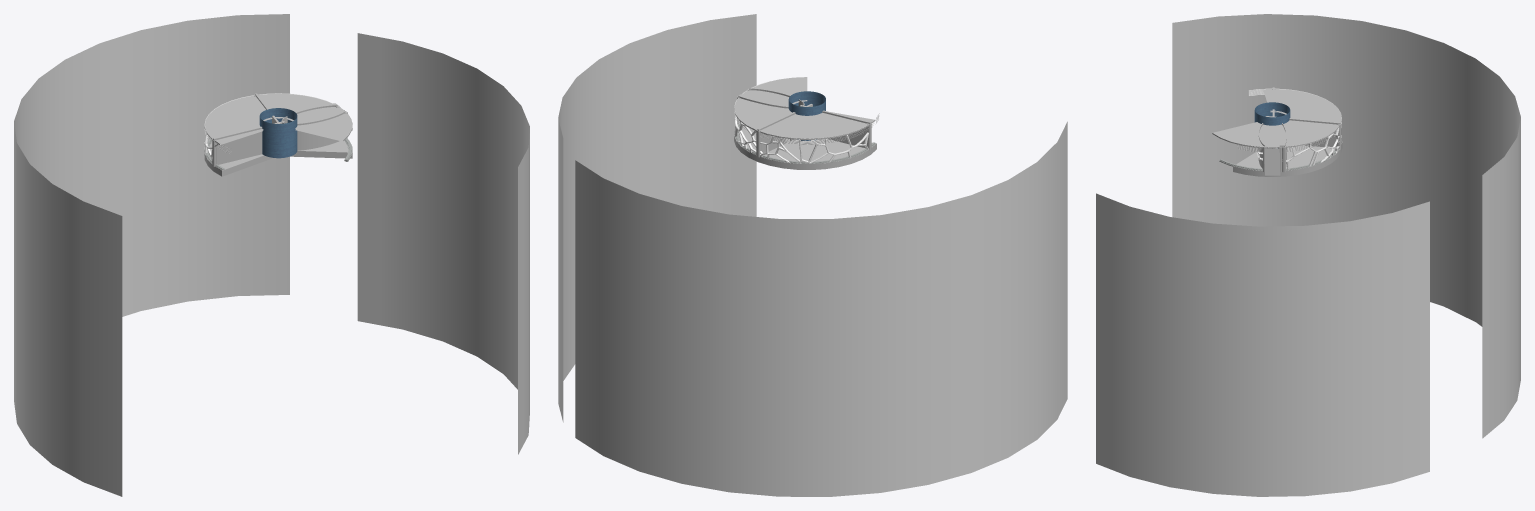
File: House.fbx
The picture shows the model from 3 angles, left to right: view 1: azimuth 30°, elevation 25°; view 2: azimuth 150°, elevation 25°; view 3: azimuth 270°, elevation 25°; orthographic projection. The views are drawn at different scales.
Visible parts, largest first — view 1: Skybox_Livingroom, Skybox_Bedroom.001, SM_Ceiling, SM_BuildingCore, SM_Floor, SM_Wall_Livingroom, SM_Wall_Bathroom; view 2: Skybox_Livingroom, Skybox_Bedroom.001, SM_Ceiling, SM_Floor, SM_Windowpanes, SM_BuildingCore, SM_Shutters; view 3: Skybox_Bedroom.001, Skybox_Livingroom, SM_Ceiling, SM_Floor, SM_BuildingCore, SM_Shutters, SM_Windowpanes.
Boxes of the visible parts, <box> form: Skybox_Livingroom: <box>14,14,289,496</box>; Skybox_Bedroom.001: <box>357,33,529,454</box>; SM_Ceiling: <box>204,93,352,144</box>; SM_BuildingCore: <box>259,108,297,158</box>; SM_Floor: <box>204,140,352,176</box>; SM_Wall_Livingroom: <box>213,121,284,164</box>; SM_Wall_Bathroom: <box>281,103,345,150</box>; Skybox_Livingroom: <box>575,121,1067,496</box>; Skybox_Bedroom.001: <box>558,14,756,422</box>; SM_Ceiling: <box>734,77,875,139</box>; SM_Floor: <box>734,126,876,169</box>; SM_Windowpanes: <box>734,114,873,163</box>; SM_BuildingCore: <box>788,91,825,140</box>; SM_Shutters: <box>734,81,879,144</box>; Skybox_Bedroom.001: <box>1096,193,1429,496</box>; Skybox_Livingroom: <box>1172,14,1520,438</box>; SM_Ceiling: <box>1212,89,1341,148</box>; SM_Floor: <box>1233,140,1342,176</box>; SM_BuildingCore: <box>1254,102,1290,148</box>; SM_Shutters: <box>1238,88,1341,152</box>; SM_Windowpanes: <box>1257,124,1341,170</box>.
Bounding box in the file's own units: 6969 × 4561 × 6111.
